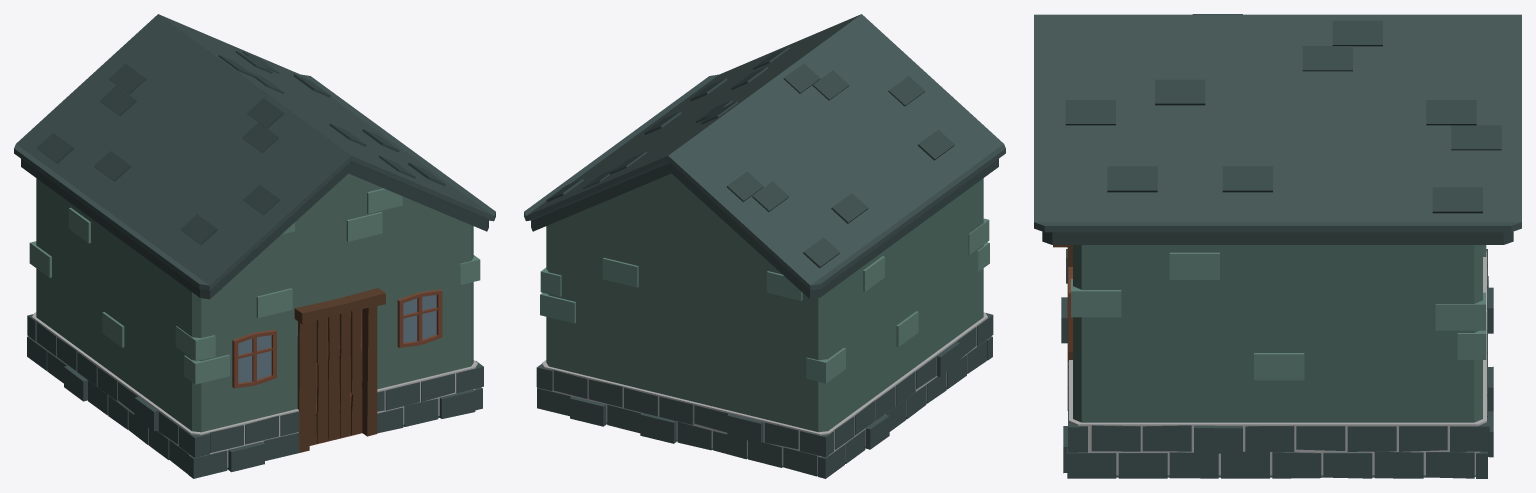
The model's file is 1Story_GableRoof_Mat.glb.
3 views of the same model, side by side, from view 1: azimuth 30°, elevation 25°; view 2: azimuth 150°, elevation 25°; view 3: azimuth 270°, elevation 25° (orthographic). The views are drawn at different scales.
Visible parts, largest first — view 1: 1Story_GableRoof_Mat; view 2: 1Story_GableRoof_Mat; view 3: 1Story_GableRoof_Mat.
Boxes of the visible parts, left/top/right/bottom form: 1Story_GableRoof_Mat: left=14, top=14, right=495, bottom=478; 1Story_GableRoof_Mat: left=524, top=14, right=1005, bottom=478; 1Story_GableRoof_Mat: left=1034, top=14, right=1521, bottom=478.
Bounding box in the file's own units: 2.11 × 2.02 × 2.38.
